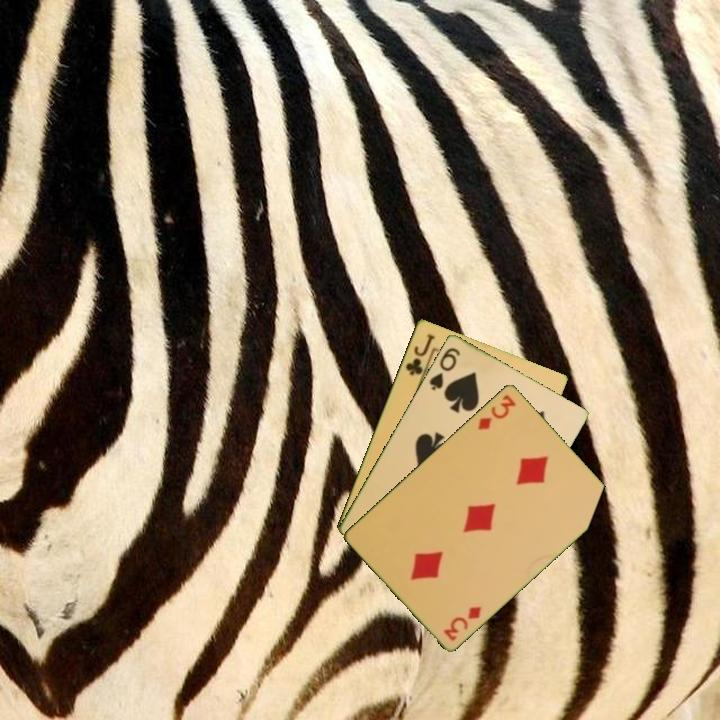3d: (474, 391, 519, 433), (440, 602, 485, 644)
6s: (425, 343, 463, 393)
Jc: (402, 330, 438, 378)
